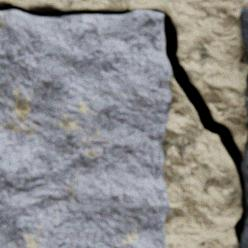brick: (0, 11, 171, 247), (241, 135, 247, 203), (239, 8, 247, 51), (240, 215, 247, 247), (246, 94, 247, 127), (246, 73, 247, 89)
crack: (0, 0, 247, 247)
